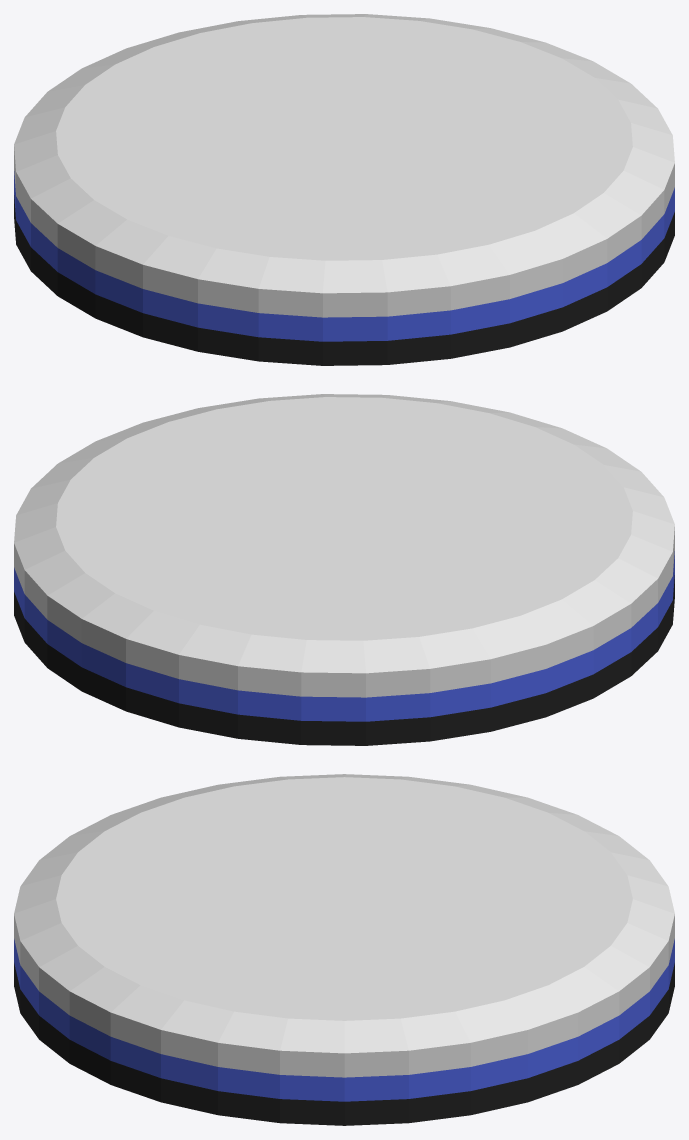
The model's file is piece.glb.
3 renders of one model, top to bottom at view 1: azimuth 30°, elevation 25°; view 2: azimuth 150°, elevation 25°; view 3: azimuth 270°, elevation 25°, orthographic.
Parts seen in each view (by area): view 1: piece; view 2: piece; view 3: piece.
Boxes of the visible parts, x1=… form: piece: x1=14, y1=14, x2=674, y2=365; piece: x1=14, y1=394, x2=674, y2=745; piece: x1=14, y1=774, x2=674, y2=1125.
Size of the model in its own units: 1.58 by 0.2687 by 1.58.
